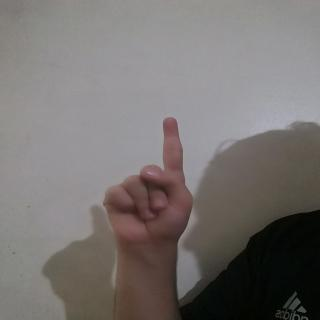BAA: (105, 108, 206, 260)
